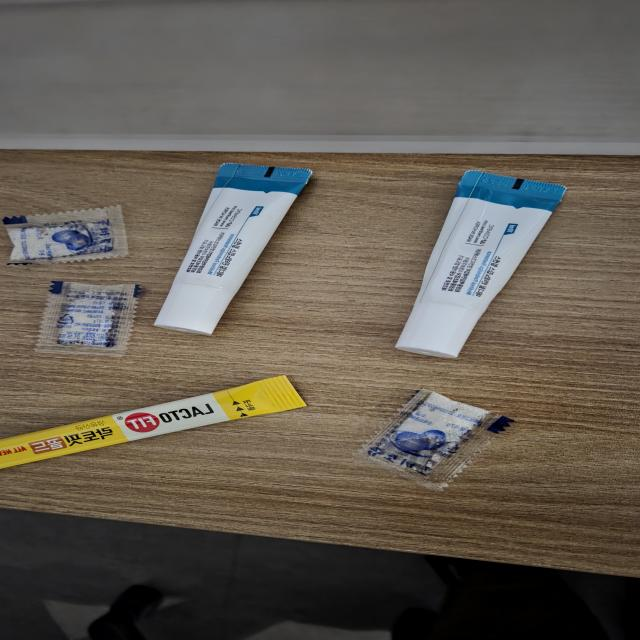lacto: (0, 373, 313, 485)
lib: (389, 167, 572, 359), (148, 162, 328, 340)
salt: (345, 386, 519, 492), (34, 279, 144, 359), (1, 204, 133, 266)
